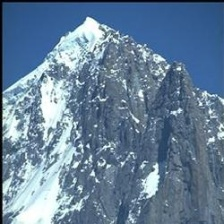neutral: (4, 6, 224, 211)
